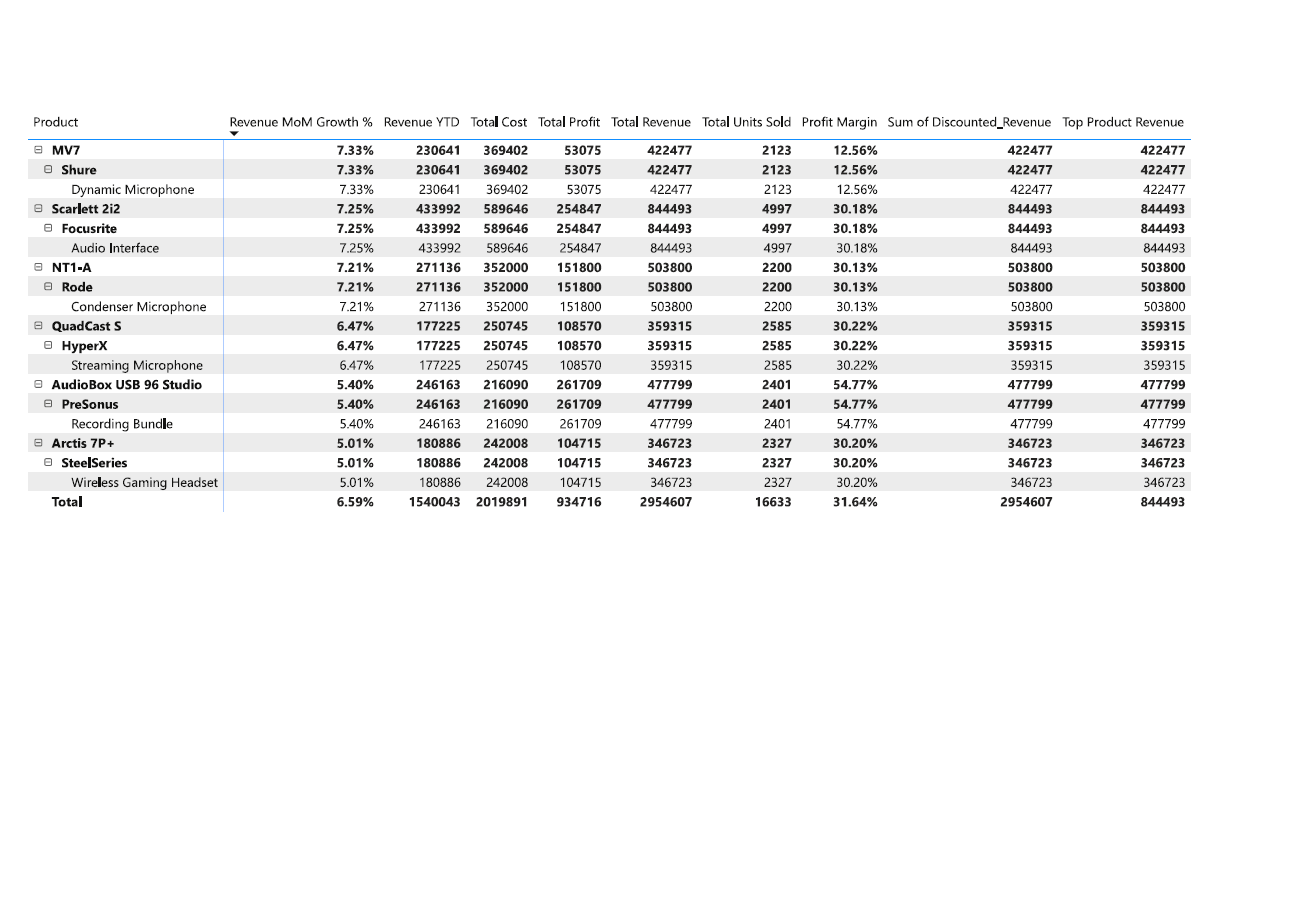

Layout of this report page (visuals, bound fields, positions):
{"tool":"powerbi","page":{"name":"Matrix Table","canvas":[1280,720],"ordinal":1},"visuals":[{"type":"pivotTable","fields":{"Rows":["Complied_File.Product","Complied_File.Brand","Complied_File.Category"],"Values":["Calculations.Revenue MoM Growth %","Calculations.Revenue YTD","Calculations.Total Cost","Calculations.Total Profit","Calculations.Total Revenue","Calculations.Total Units Sold","Calculations.Profit Margin","Sum(Complied_File.Discounted_Revenue)","Calculations.Top Product Revenue"]},"box":[0,0,1280,459],"z":0}]}

Visuals, with their boxes on the page's 1280x720 design canvas (x1, y1, x2, y2). These are canvas units, not pixel positions in the 1300x917 screenshot, which may show the page scaled, cropped or inside an application window:
pivotTable - Complied_File.Product x Complied_File.Brand: box=[0, 0, 1280, 459]
